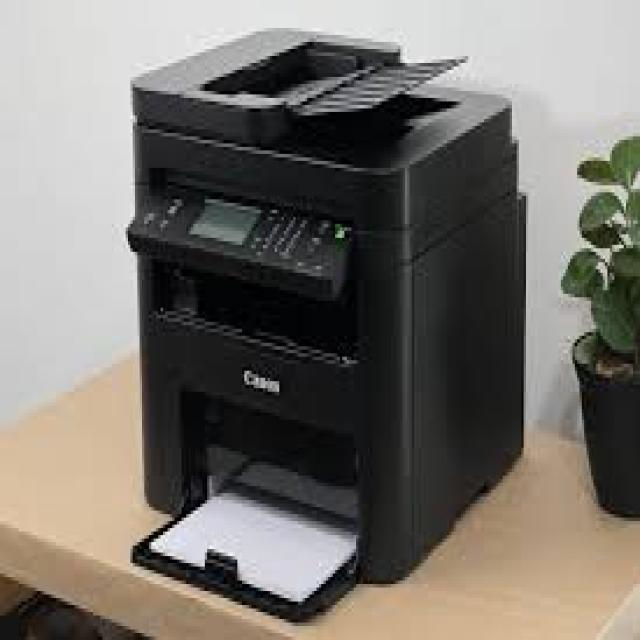printer: (123, 25, 526, 622)
